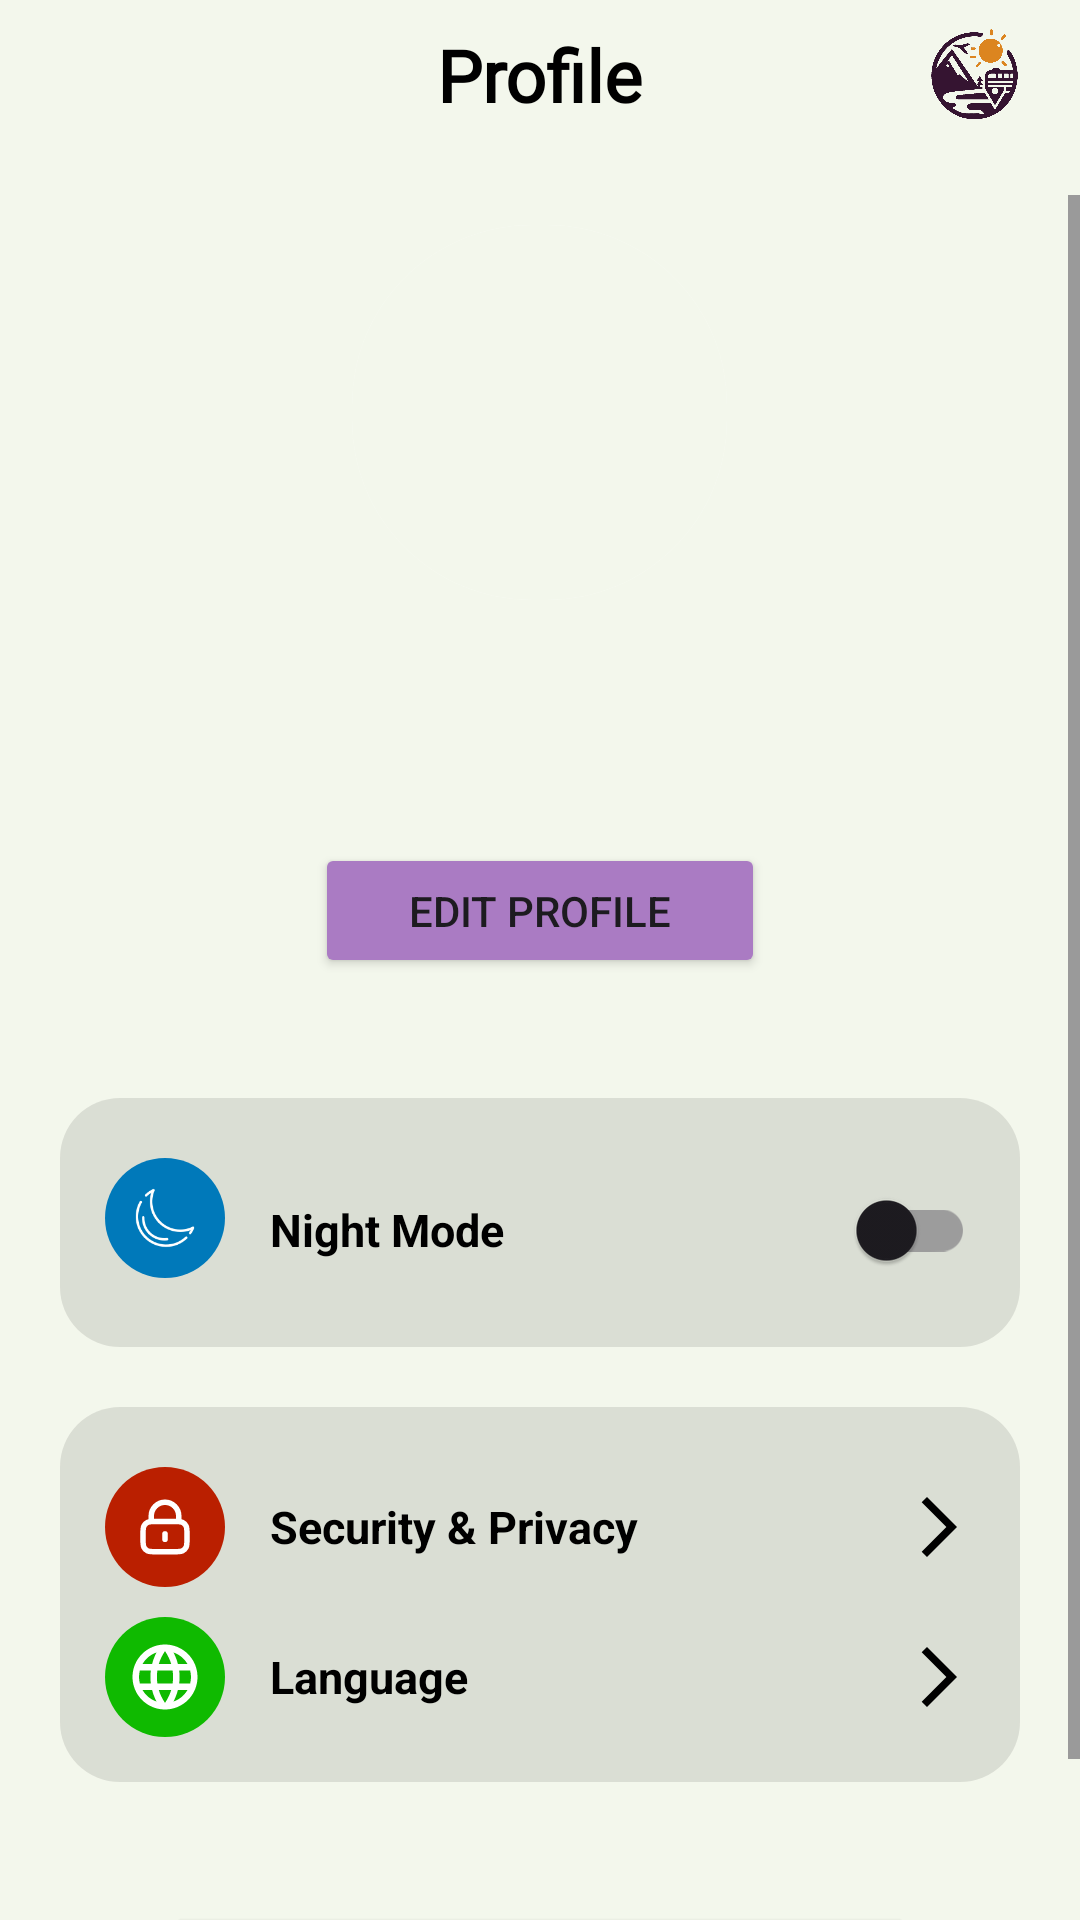

Where to tap for icons on this 1080*1920 app screen, as [x,y]:
forward: [939,1527], [939,1677]
